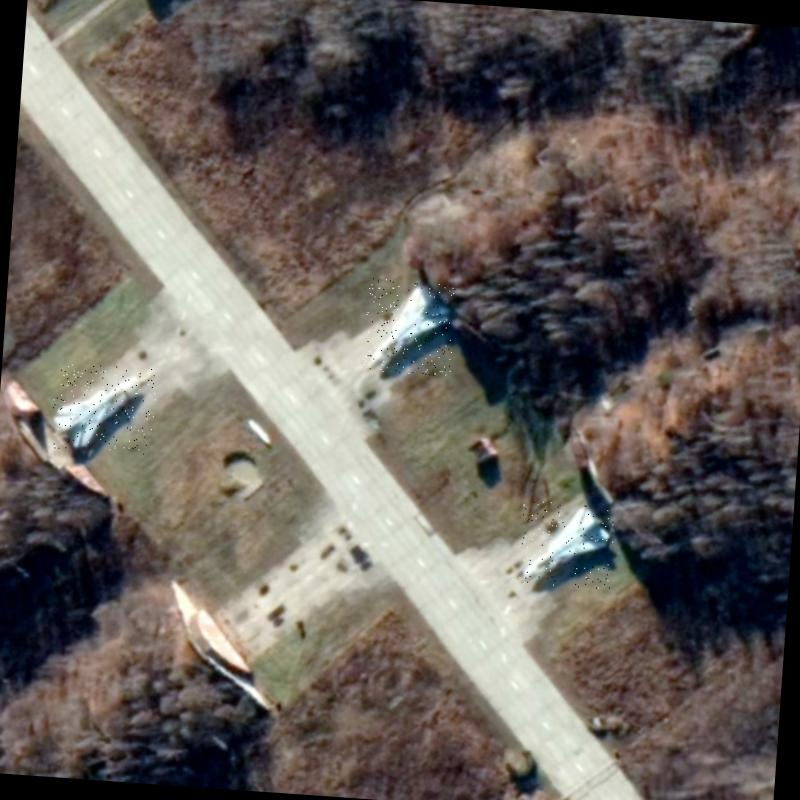A20: (49, 362, 158, 455), (362, 278, 456, 376), (518, 500, 616, 590)
